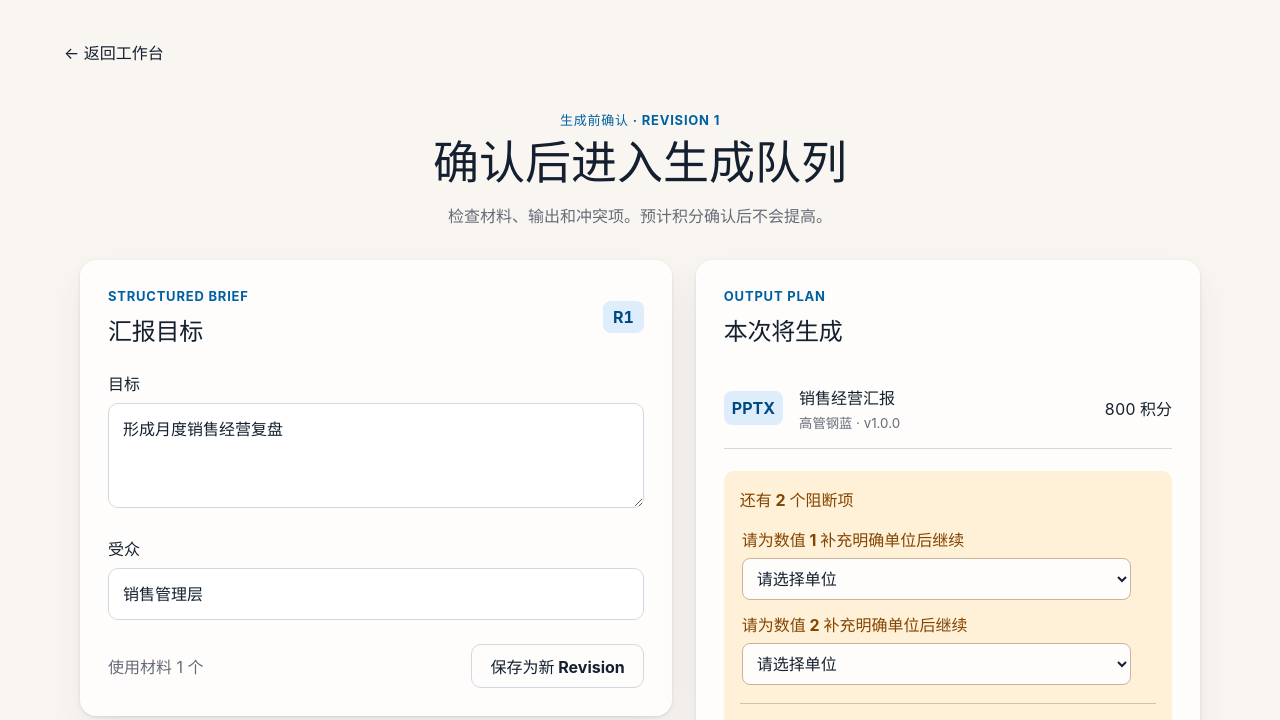
Scenario: Brief confirmation view › keeps the unit save action reachable and unlocks generation after recheck
Select "人民币（万元）" in the dropdown with test id "unit-resolution-0": {"x": 936, "y": 579} top-left (742, 558), bottom-right (1131, 600)
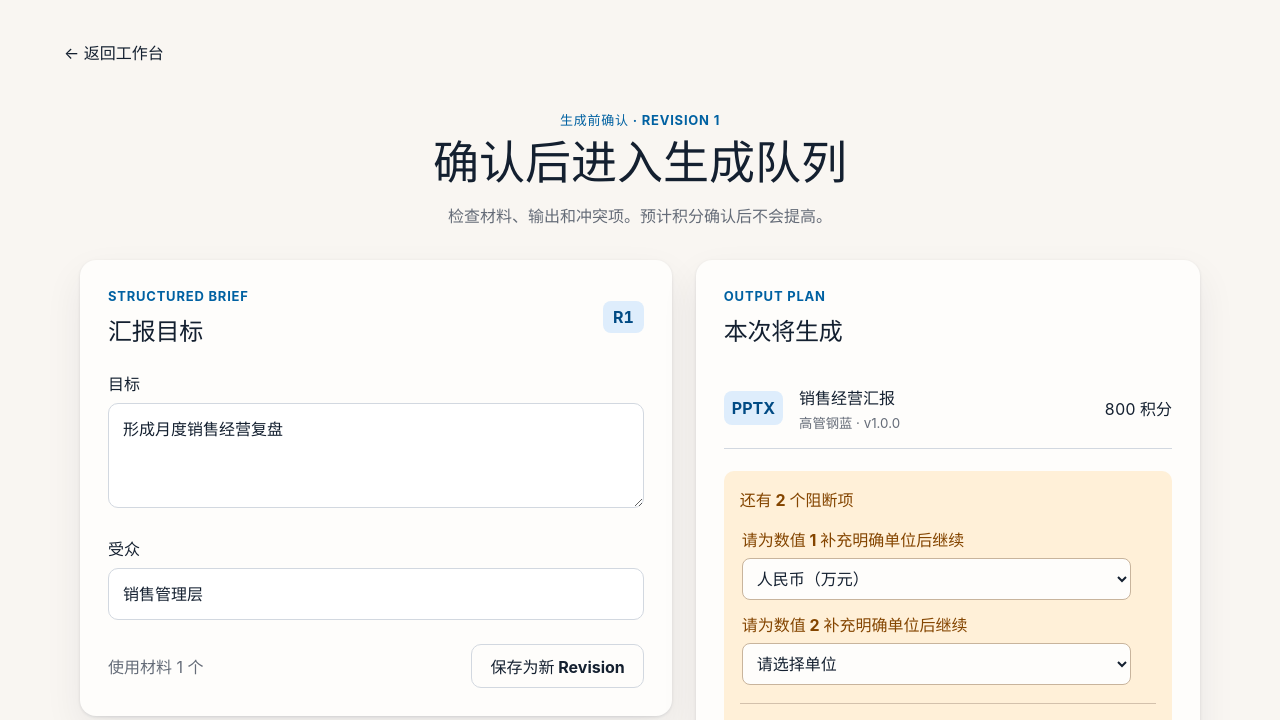
Select "数量（个/件）" in the dropdown with test id "unit-resolution-1": {"x": 936, "y": 664} top-left (742, 643), bottom-right (1131, 685)
(page scrolled)
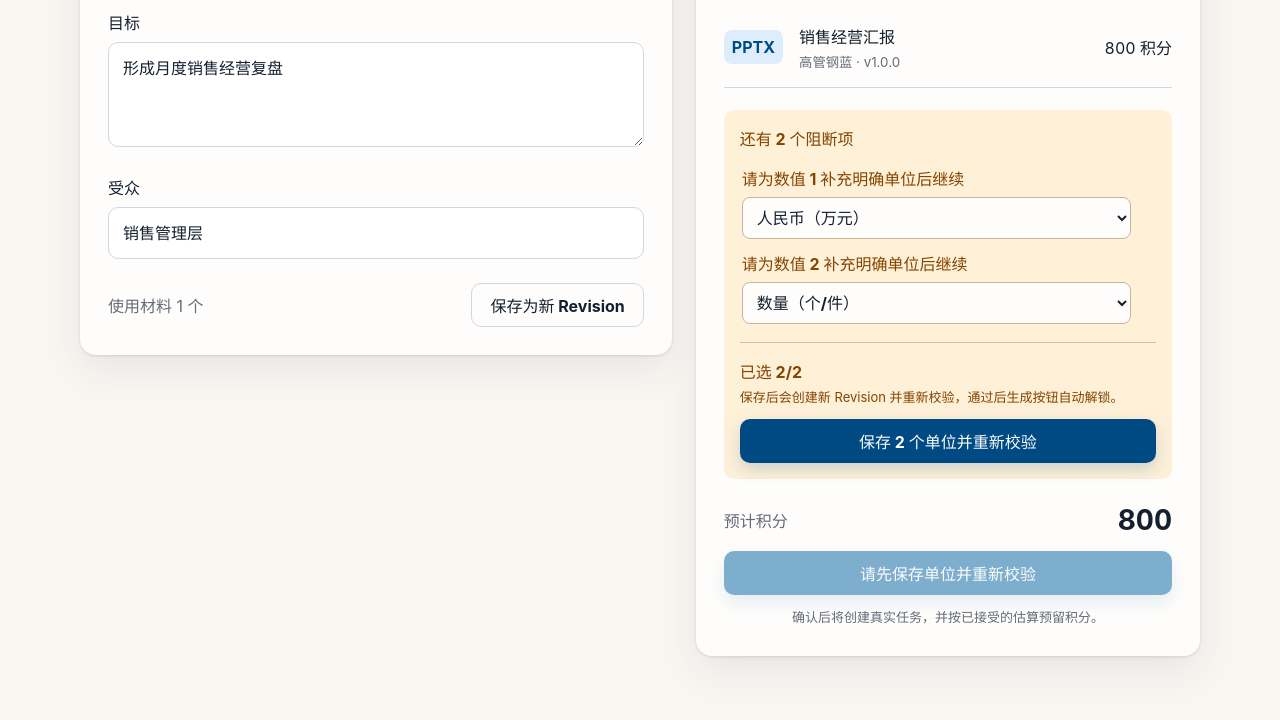
Expected: the text with test id "unit-resolution-progress" shows "2/2", top-left (740, 362), bottom-right (802, 382)
Expected: the button with test id "save-unit-resolutions" is enabled
Expected: the button with test id "confirm-brief" shows "保存单位并重新校验", top-left (724, 551), bottom-right (1172, 595)
Click the button with test id "save-unit-resolutions": {"x": 948, "y": 441} top-left (740, 419), bottom-right (1156, 463)
(page scrolled)
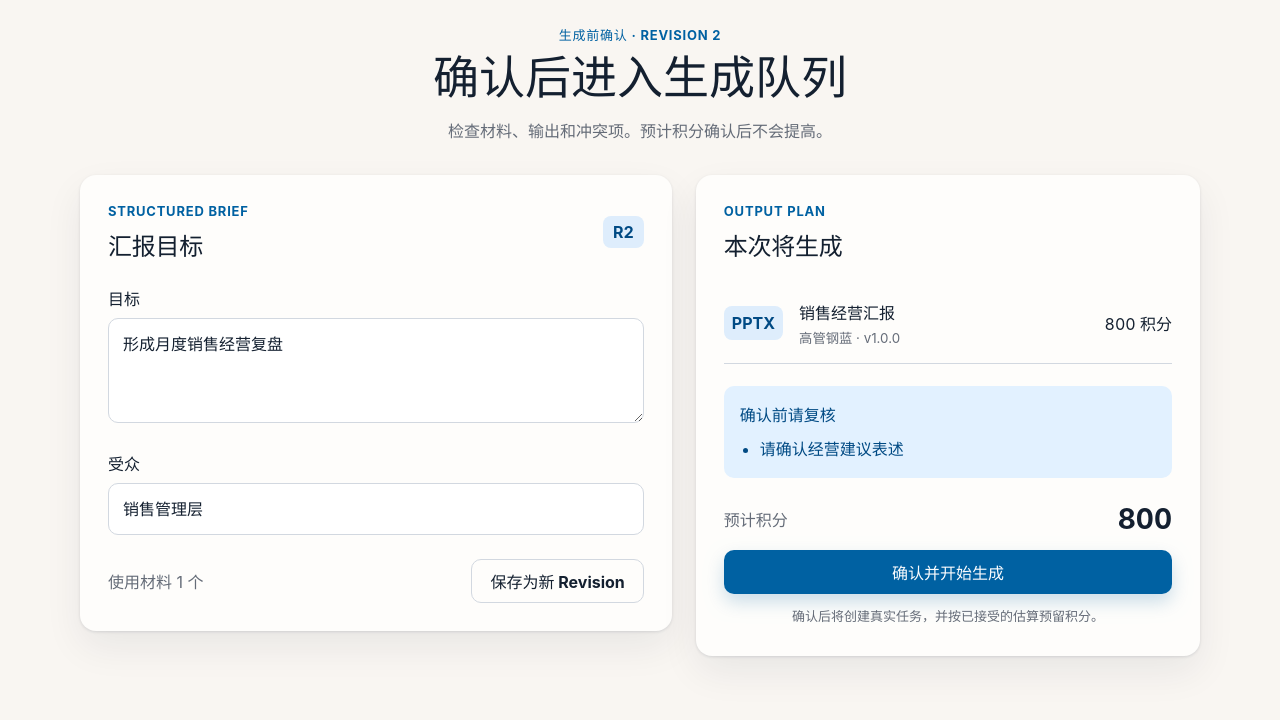
Expected: the button with test id "confirm-brief" is enabled, top-left (724, 550), bottom-right (1172, 594)
